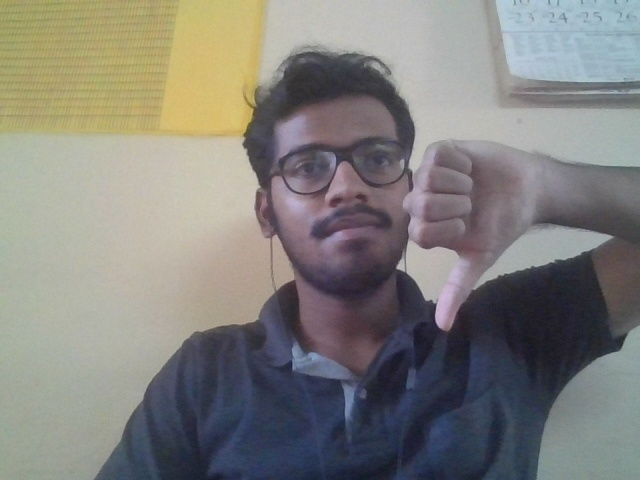ThumbsDown: (402, 137, 539, 334)
